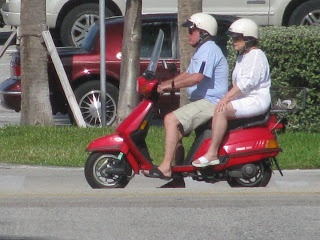helmet: (179, 10, 219, 50), (224, 17, 260, 54)
